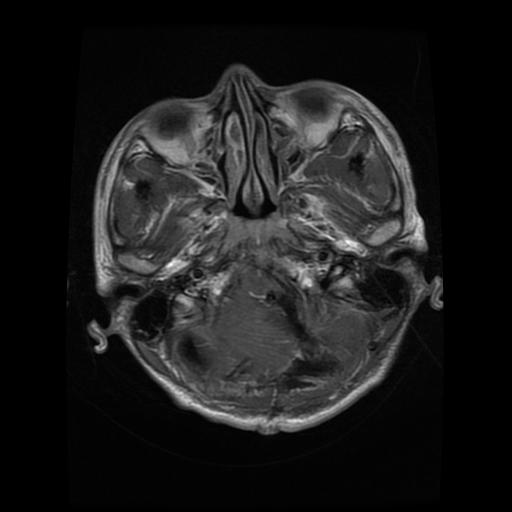Gliomia_tumour: (264, 286, 309, 342)
